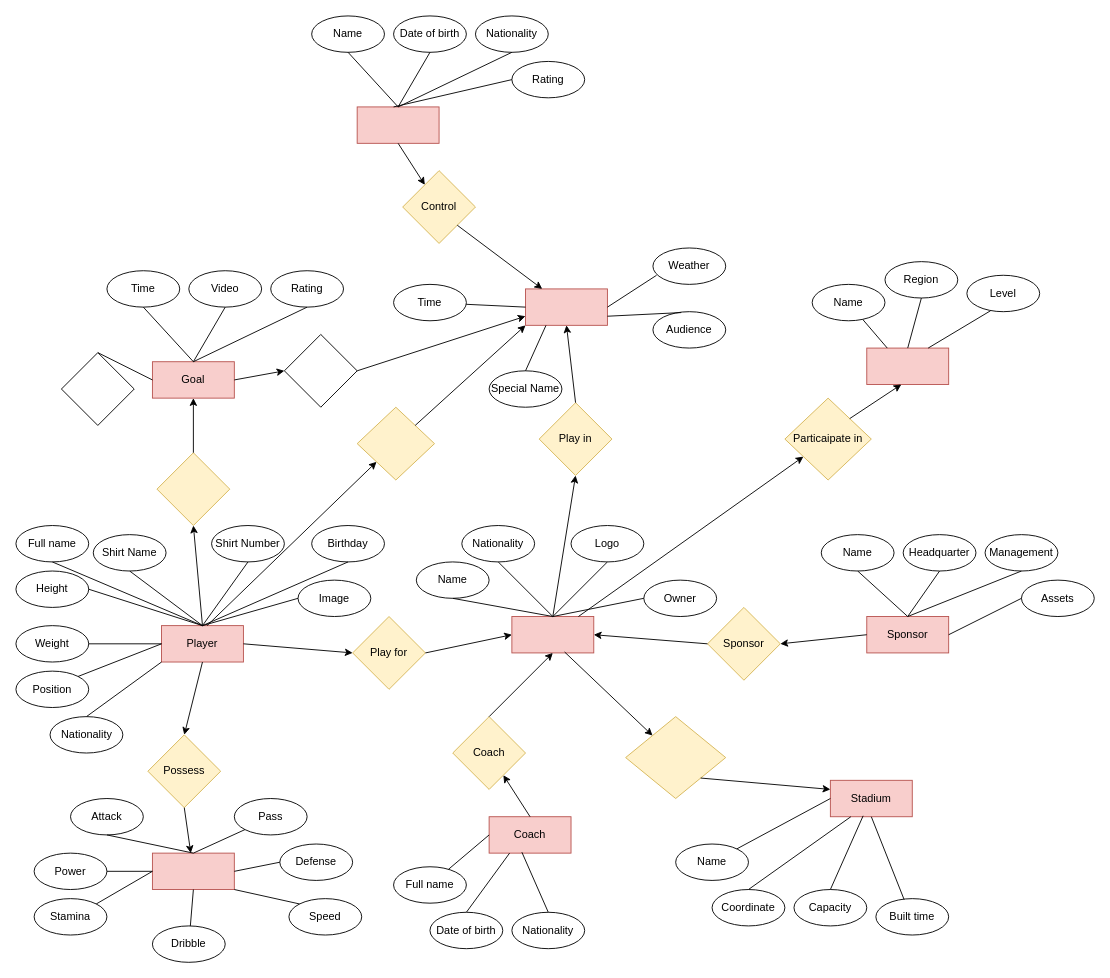
The diagram is 1110 pixels wide and 978 high, and some of its shapes have lost their labels. Each missing label, with the centre of its shape:
"Attribute" goes at point (193, 871).
"Be MOTM in" goes at point (395, 443).
"Club" goes at point (552, 634).
"Happen in" goes at point (320, 370).
"ID_Player" goes at point (97, 388).
"League" goes at point (907, 365).
"Match" goes at point (566, 306).
"Own" goes at point (675, 757).
"Referee" goes at point (397, 124).
"Score" goes at point (193, 489).
